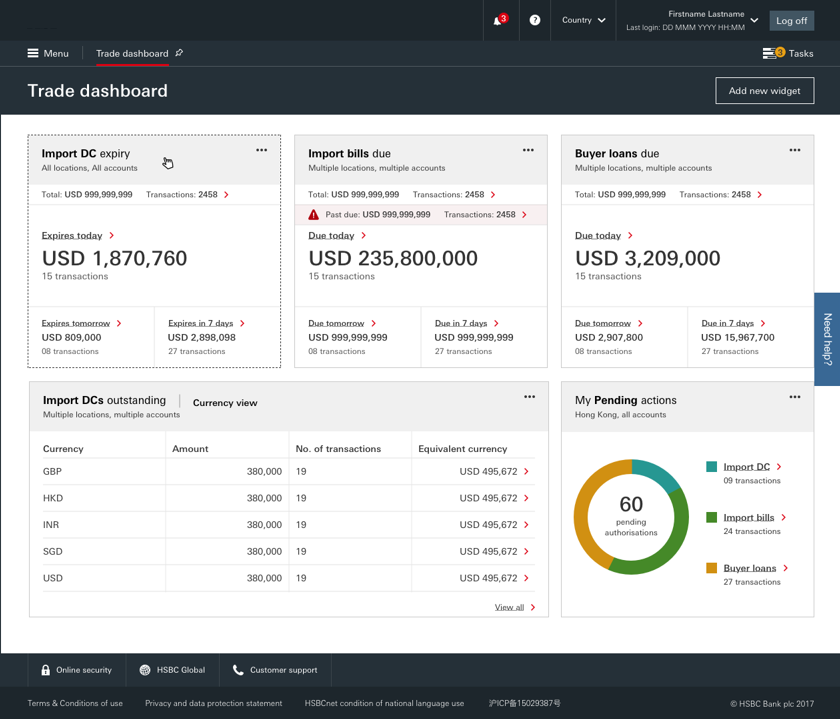block: (1, 1, 839, 114), (27, 134, 281, 368), (294, 134, 548, 367), (561, 134, 814, 366), (1, 653, 840, 719), (1, 40, 840, 67)
button: (220, 654, 331, 687), (26, 654, 125, 687), (125, 655, 219, 688), (715, 77, 815, 104), (814, 293, 840, 387), (19, 43, 80, 64), (771, 11, 815, 30)
chart: (561, 380, 814, 618)
form: (618, 11, 765, 32), (557, 10, 618, 33)
icon: (485, 8, 517, 38), (520, 8, 551, 37), (782, 137, 808, 162), (514, 138, 540, 161), (518, 385, 540, 407), (134, 659, 154, 683), (786, 386, 807, 408), (227, 657, 247, 680), (252, 138, 272, 159), (595, 11, 614, 33), (763, 45, 787, 62), (234, 314, 255, 333), (23, 44, 41, 64), (171, 45, 191, 63), (110, 314, 131, 331), (521, 541, 537, 562), (103, 227, 121, 245), (218, 187, 237, 202), (520, 488, 534, 508), (634, 314, 650, 331), (776, 509, 793, 525), (748, 12, 763, 30), (525, 596, 540, 614), (520, 518, 536, 534), (523, 568, 537, 586), (40, 662, 53, 681), (488, 187, 503, 203), (365, 314, 381, 329), (779, 561, 794, 577), (357, 226, 371, 243), (757, 314, 771, 331), (624, 226, 637, 242), (519, 207, 533, 221), (521, 462, 533, 478), (491, 314, 503, 328), (775, 459, 786, 474), (755, 188, 765, 201)
table: (28, 380, 549, 617)
